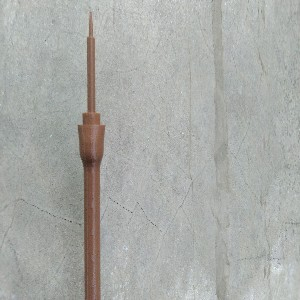solder: (77, 10, 106, 300)
